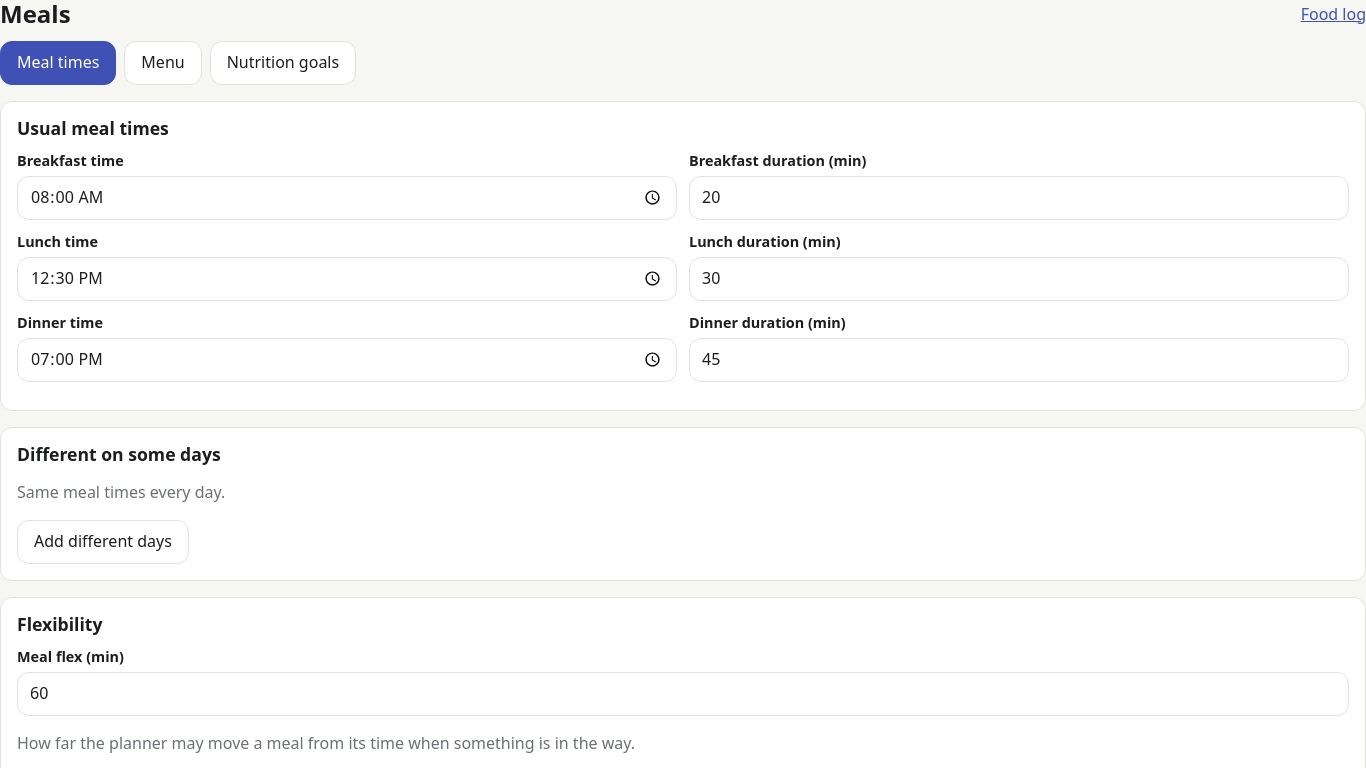
Scenario: menu tab renders the weekly menu
The width and height of the screenshot is (1366, 768).
Click the tab "Menu".
click(163, 63)  # box [124, 41, 202, 85]
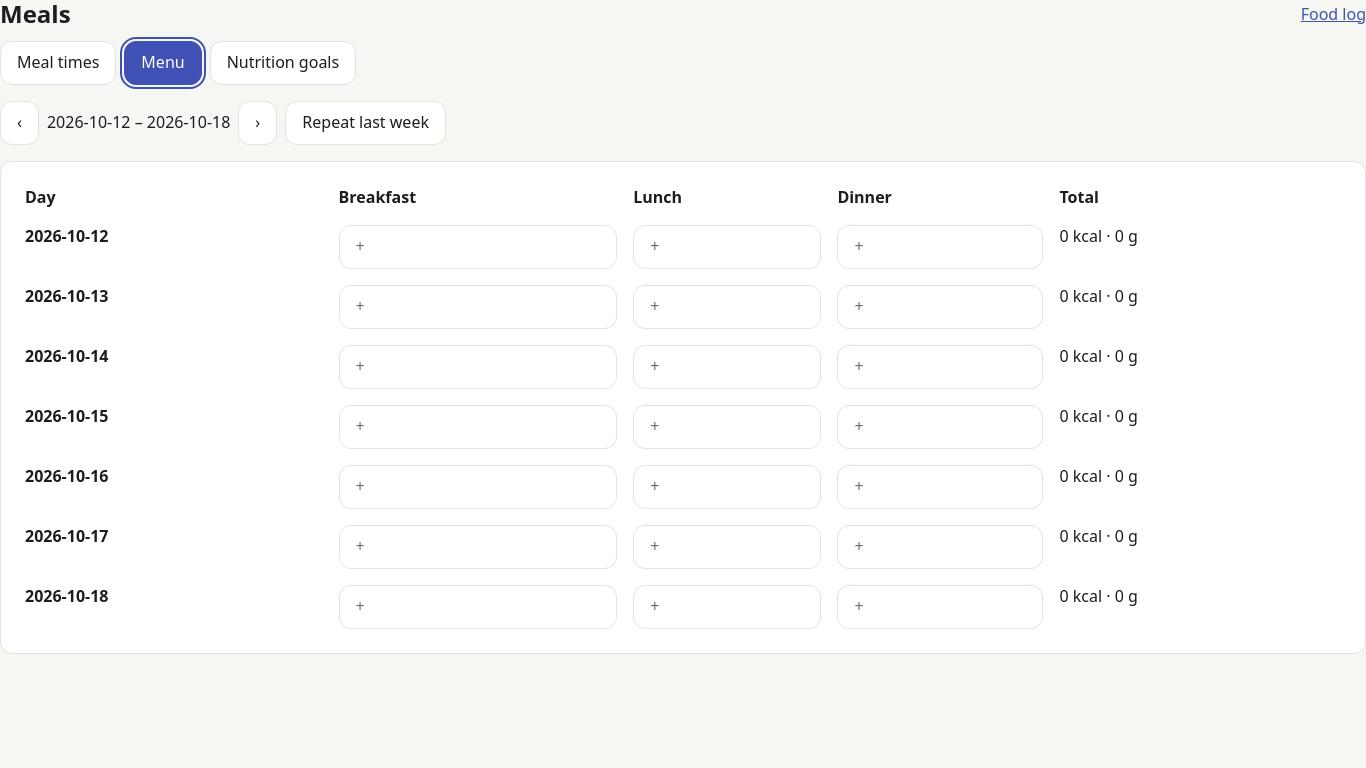
Expected: the button named "2026-10-14 dinner" is shown, [837, 345, 1043, 389]
Expected: the button "Repeat last week" is shown, [285, 101, 446, 145]
